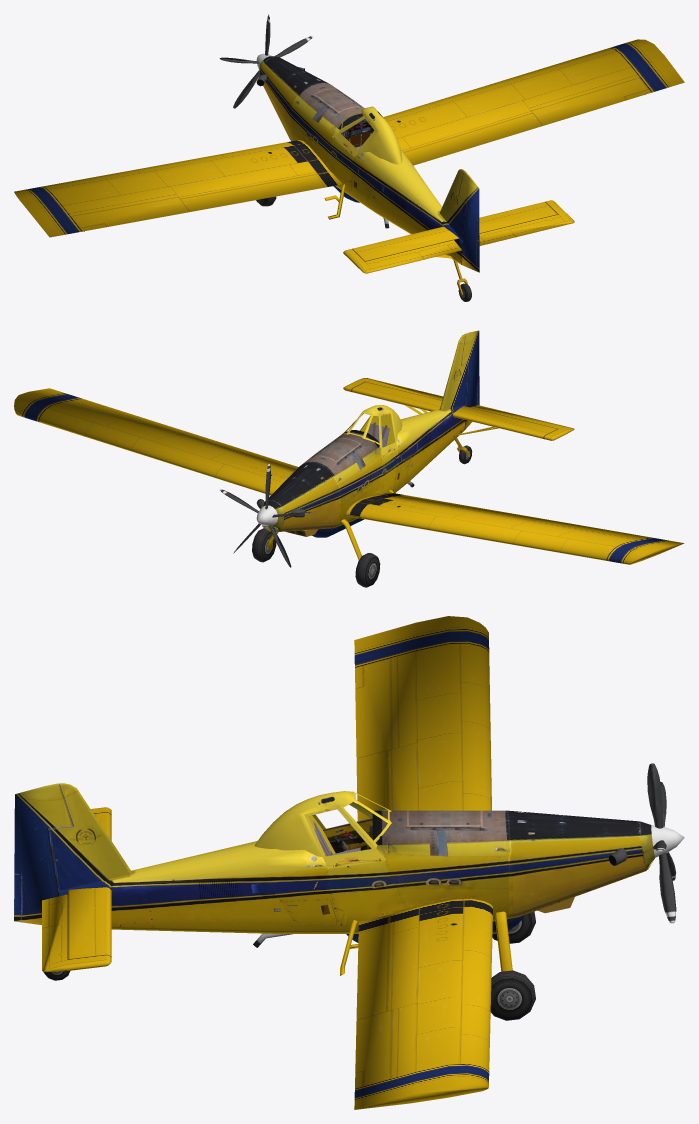
The model's file is Air-Tractor-AT-802-cbj_LOD01.gltf.
3 renders of one model, top to bottom at view 1: azimuth 30°, elevation 25°; view 2: azimuth 150°, elevation 25°; view 3: azimuth 270°, elevation 25°, orthographic. The views are drawn at different scales.
Visible parts, largest first — view 1: fuselage.001; view 2: fuselage.001; view 3: fuselage.001.
Part boxes in pixels (bbox=[...]): fuselage.001: bbox=[14, 14, 684, 301]; fuselage.001: bbox=[14, 330, 684, 587]; fuselage.001: bbox=[14, 616, 684, 1109].
Size of what is drawn, in the model's own units: 18.11 by 3.9 by 10.91.
